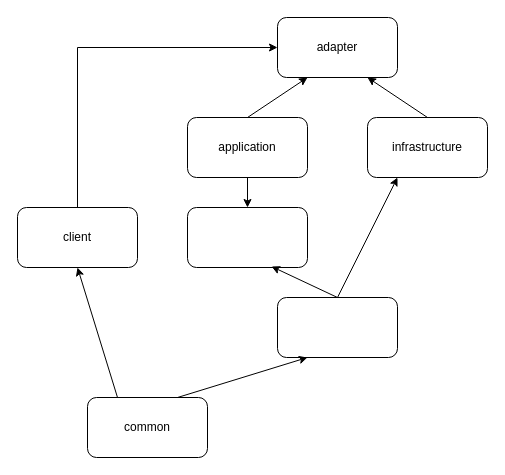
Some shapes in this 505 by 475 pixel diagram are drawn without their labels. Here are the shapes that lost their labels. From the top down, the centre of each, then its label:
the point at 247,237: domain
the point at 337,327: basic
